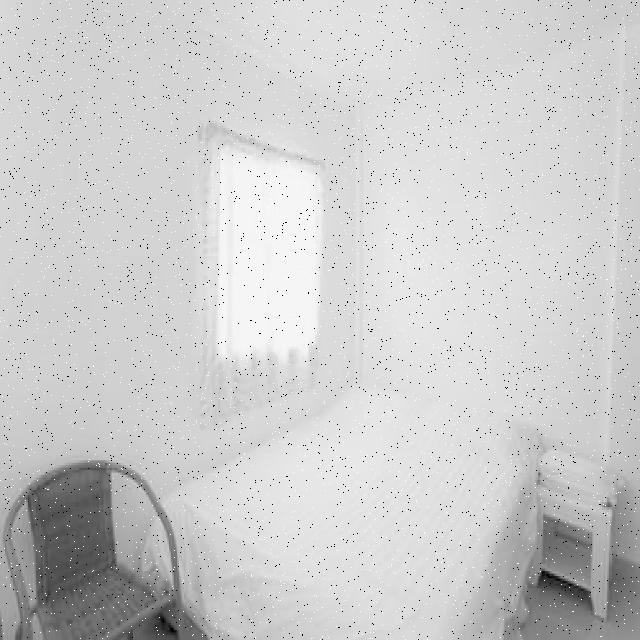bed: (142, 389, 550, 640)
